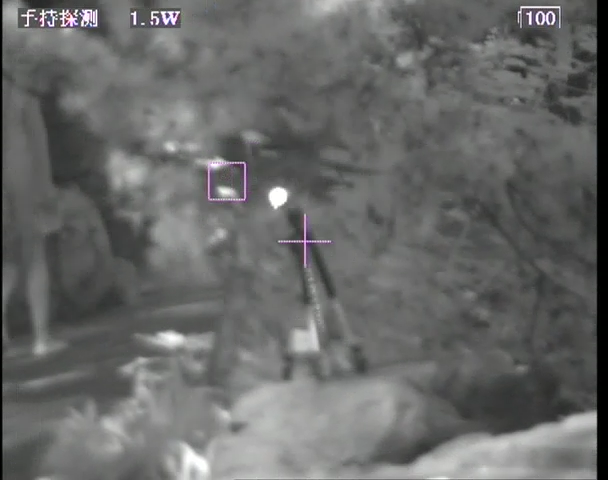my: (265, 188, 289, 208)
